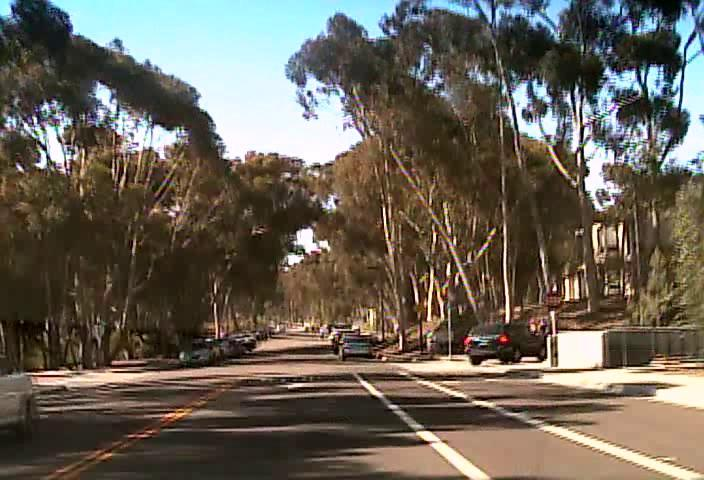stop: (541, 289, 563, 310)
